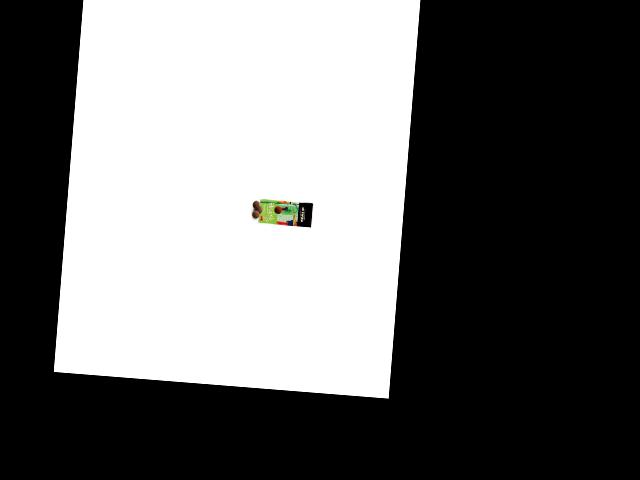chocolate: (257, 192, 315, 231)
